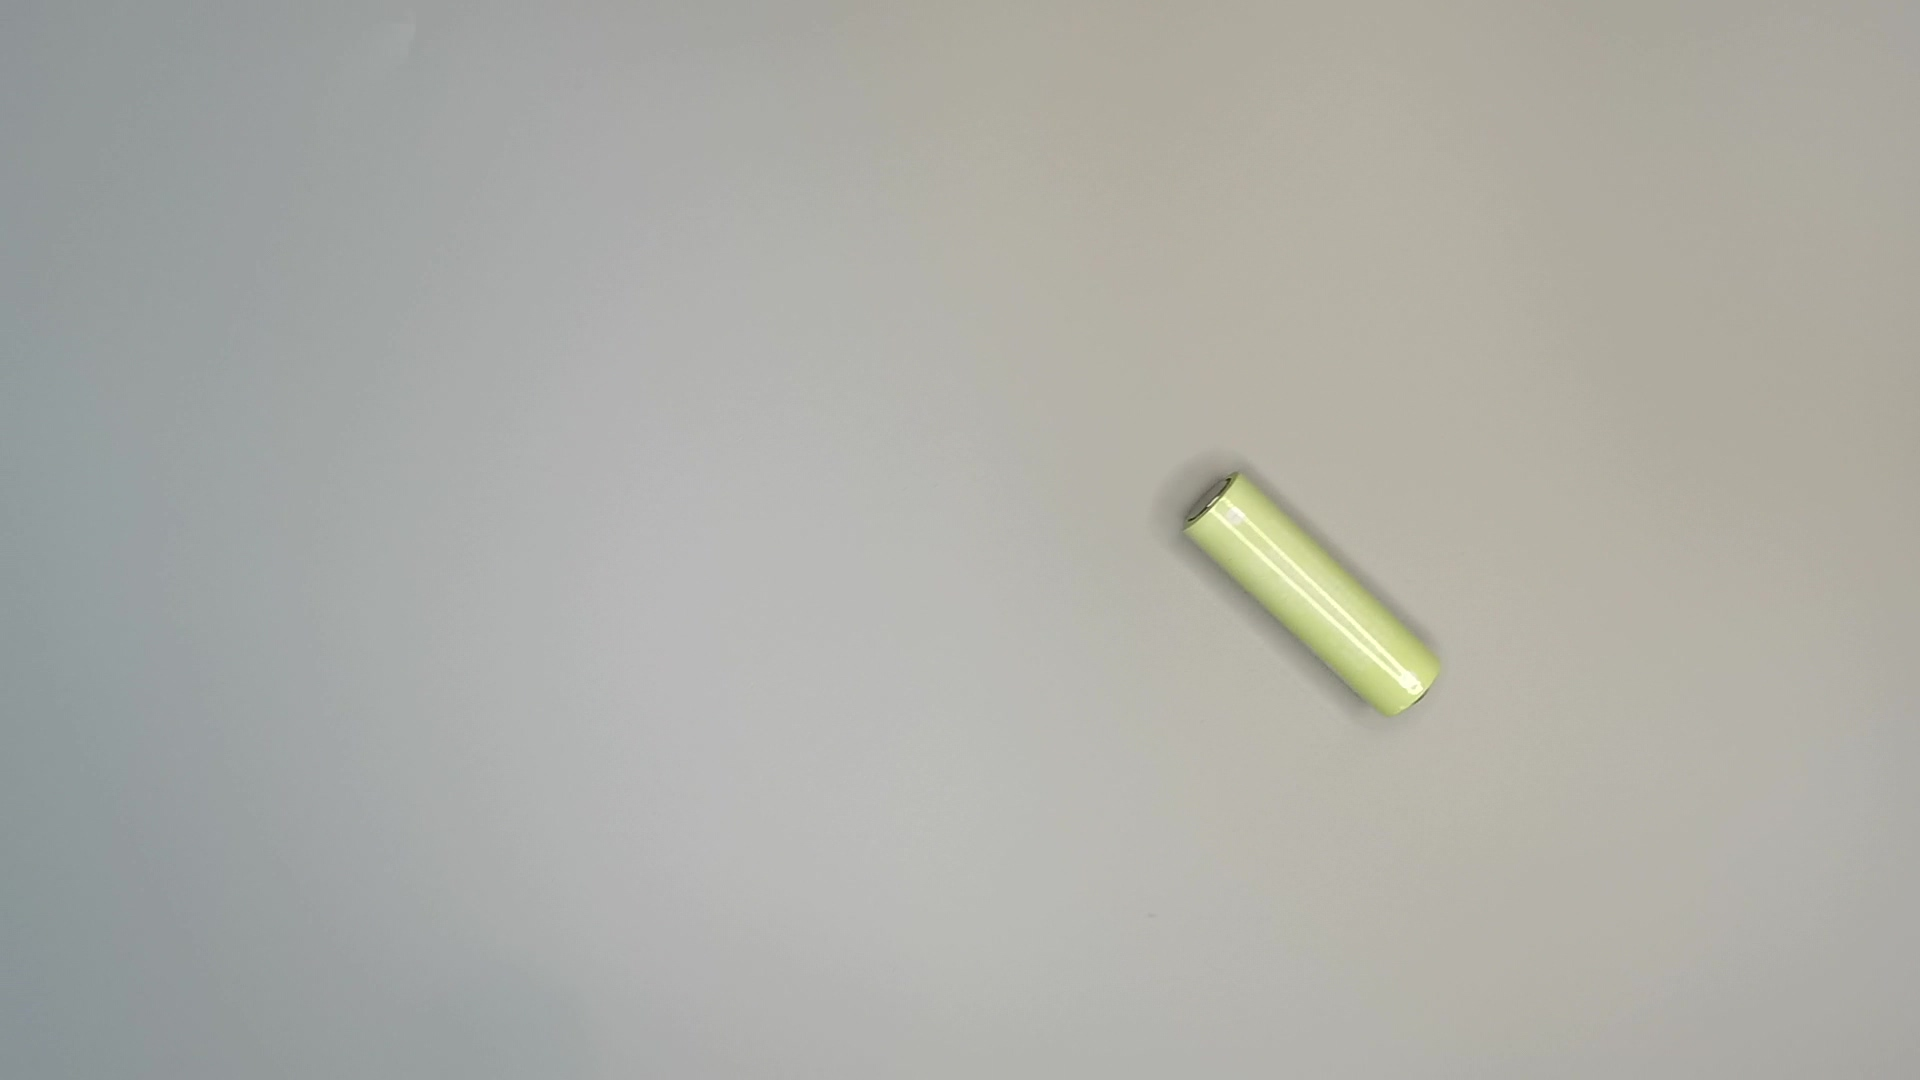battery: (1180, 460, 1455, 727)
